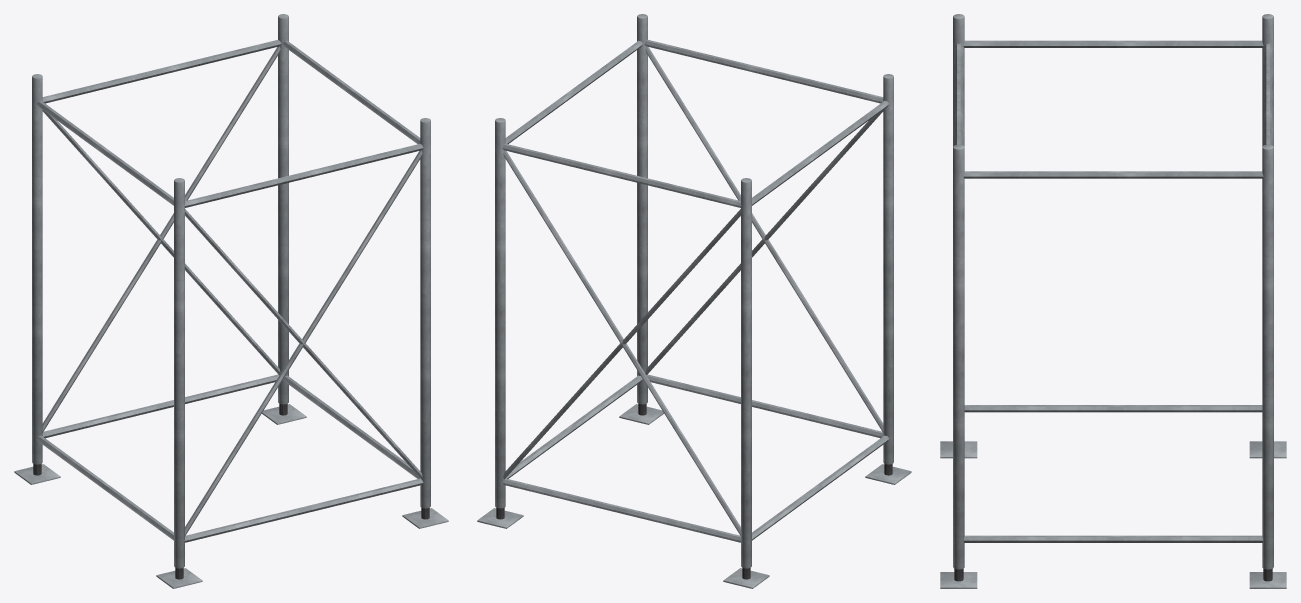
File: EST-ESC-002_lod1.glb
The picture shows the model from 3 angles, left to right: view 1: azimuth 30°, elevation 25°; view 2: azimuth 150°, elevation 25°; view 3: azimuth 270°, elevation 25°; orthographic projection. The views are drawn at different scales.
Parts seen in each view (by area): view 1: EST-ESC-002_mont, EST-ESC-002_mont.002, EST-ESC-002_mont.001, EST-ESC-002_mont.003, EST-ESC-002_diag, EST-ESC-002_diag.002, EST-ESC-002_diag.001, EST-ESC-002_trav.005, EST-ESC-002_trav.004, EST-ESC-002_trav, EST-ESC-002_diag.003, EST-ESC-002_trav.001 (+4 smaller); view 2: EST-ESC-002_mont.001, EST-ESC-002_mont.003, EST-ESC-002_mont, EST-ESC-002_mont.002, EST-ESC-002_diag.002, EST-ESC-002_diag, EST-ESC-002_diag.003, EST-ESC-002_trav.004, EST-ESC-002_trav.005, EST-ESC-002_trav.001, EST-ESC-002_diag.001, EST-ESC-002_trav (+4 smaller); view 3: EST-ESC-002_mont.002, EST-ESC-002_mont.003, EST-ESC-002_trav.007, EST-ESC-002_trav.003, EST-ESC-002_trav.006, EST-ESC-002_trav.002, EST-ESC-002_mont, EST-ESC-002_mont.001, EST-ESC-002_trav.004, EST-ESC-002_trav.005, EST-ESC-002_sapata.002, EST-ESC-002_sapata.003 (+2 smaller).
Boxes of the visible parts, left/top/right/bottom form: EST-ESC-002_mont: left=174, top=178, right=184, bottom=568; EST-ESC-002_mont.002: left=420, top=118, right=430, bottom=508; EST-ESC-002_mont.001: left=32, top=74, right=42, bottom=464; EST-ESC-002_mont.003: left=278, top=14, right=288, bottom=404; EST-ESC-002_diag: left=185, top=150, right=422, bottom=535; EST-ESC-002_diag.002: left=42, top=46, right=280, bottom=432; EST-ESC-002_diag.001: left=185, top=209, right=422, bottom=479; EST-ESC-002_trav.005: left=42, top=40, right=281, bottom=103; EST-ESC-002_trav.004: left=184, top=143, right=423, bottom=207; EST-ESC-002_trav: left=184, top=478, right=423, bottom=542; EST-ESC-002_diag.003: left=42, top=110, right=280, bottom=374; EST-ESC-002_trav.001: left=42, top=374, right=279, bottom=438; EST-ESC-002_mont.001: left=741, top=178, right=751, bottom=568; EST-ESC-002_mont.003: left=495, top=118, right=505, bottom=508; EST-ESC-002_mont: left=883, top=74, right=893, bottom=464; EST-ESC-002_mont.002: left=637, top=14, right=647, bottom=404; EST-ESC-002_diag.002: left=503, top=150, right=740, bottom=535; EST-ESC-002_diag: left=645, top=46, right=883, bottom=432; EST-ESC-002_diag.003: left=503, top=209, right=740, bottom=479; EST-ESC-002_trav.004: left=644, top=40, right=883, bottom=103; EST-ESC-002_trav.005: left=502, top=143, right=741, bottom=207; EST-ESC-002_trav.001: left=502, top=478, right=741, bottom=542; EST-ESC-002_diag.001: left=645, top=110, right=883, bottom=374; EST-ESC-002_trav: left=646, top=374, right=883, bottom=438; EST-ESC-002_mont.002: left=953, top=144, right=964, bottom=569; EST-ESC-002_mont.003: left=1262, top=144, right=1273, bottom=569; EST-ESC-002_trav.007: left=963, top=171, right=1263, bottom=178; EST-ESC-002_trav.003: left=963, top=535, right=1263, bottom=542; EST-ESC-002_trav.006: left=963, top=40, right=1263, bottom=47; EST-ESC-002_trav.002: left=964, top=405, right=1262, bottom=412; EST-ESC-002_mont: left=953, top=14, right=964, bottom=146; EST-ESC-002_mont.001: left=1262, top=14, right=1273, bottom=146; EST-ESC-002_trav.004: left=955, top=43, right=962, bottom=144; EST-ESC-002_trav.005: left=1264, top=43, right=1271, bottom=144; EST-ESC-002_sapata.002: left=940, top=572, right=977, bottom=588; EST-ESC-002_sapata.003: left=1249, top=572, right=1286, bottom=588.
Size of the model in its own units: 1.12 by 1.55 by 1.12.
Materials: 2 (2 with a texture image).
